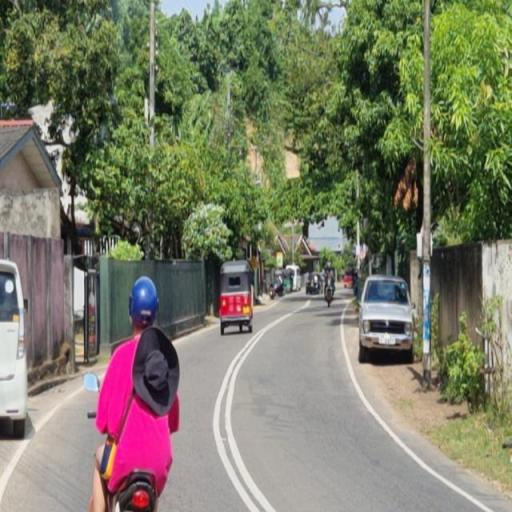double_white_line: (212, 307, 275, 512)
